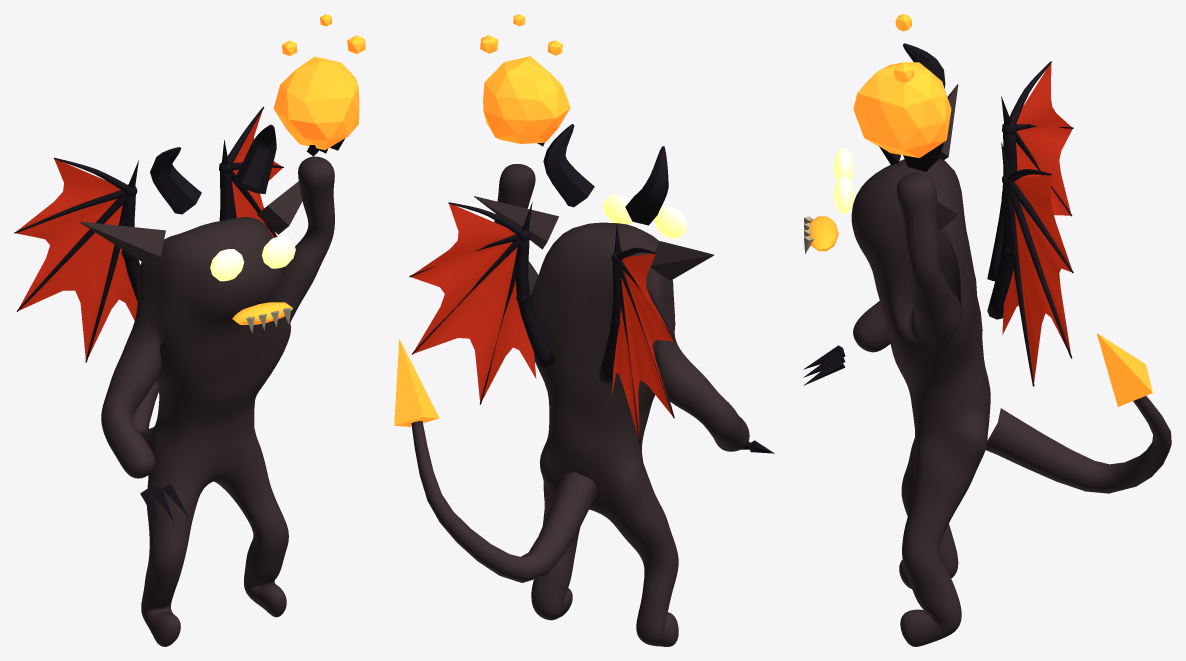
File: lava_imp.glb
The picture shows the model from 3 angles, left to right: view 1: azimuth 30°, elevation 25°; view 2: azimuth 150°, elevation 25°; view 3: azimuth 270°, elevation 25°; orthographic projection. The views are drawn at different scales.
Parts seen in each view (by area): view 1: body, wing_L_a, wing_R_a; view 2: body, wing_R_a, wing_L_a; view 3: body, wing_R_a, wing_L_a.
Part boxes in pixels (x1,y1,x2,y2): body: (79,14,365,646); wing_L_a: (14,157,140,362); wing_R_a: (219,106,283,238); body: (394,14,774,646); wing_R_a: (409,202,554,404); wing_L_a: (598,223,675,443); body: (803,14,1171,646); wing_R_a: (987,142,1073,386); wing_L_a: (987,61,1073,281).
Bounding box in the file's own units: 0.9008 × 1.88 × 0.953.
